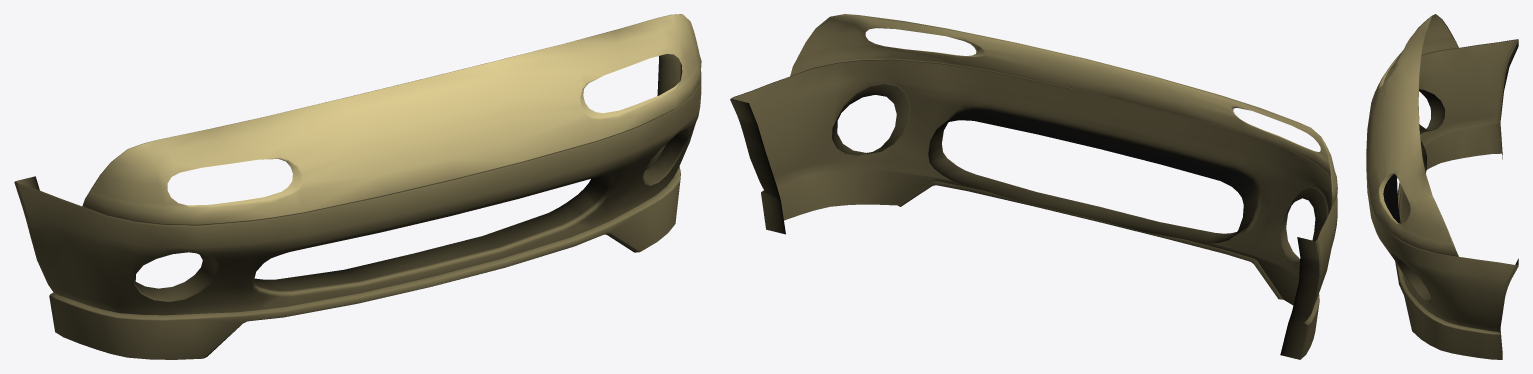
File: MX5_FB05_Duco.fbx
The picture shows the model from 3 angles, left to right: view 1: azimuth 30°, elevation 25°; view 2: azimuth 150°, elevation 25°; view 3: azimuth 270°, elevation 25°; orthographic projection. The views are drawn at different scales.
Parts seen in each view (by area): view 1: MX5_FB05_Duco; view 2: MX5_FB05_Duco; view 3: MX5_FB05_Duco.
Boxes of the visible parts, x1,y1,x2,y2 form: MX5_FB05_Duco: (14, 14, 701, 359); MX5_FB05_Duco: (730, 14, 1337, 359); MX5_FB05_Duco: (1366, 14, 1518, 359).
Size of the model in its own units: 157 by 50.3 by 44.65.
